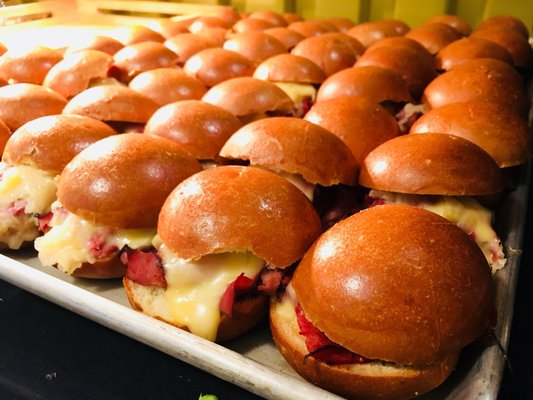soup: (267, 203, 498, 400)
